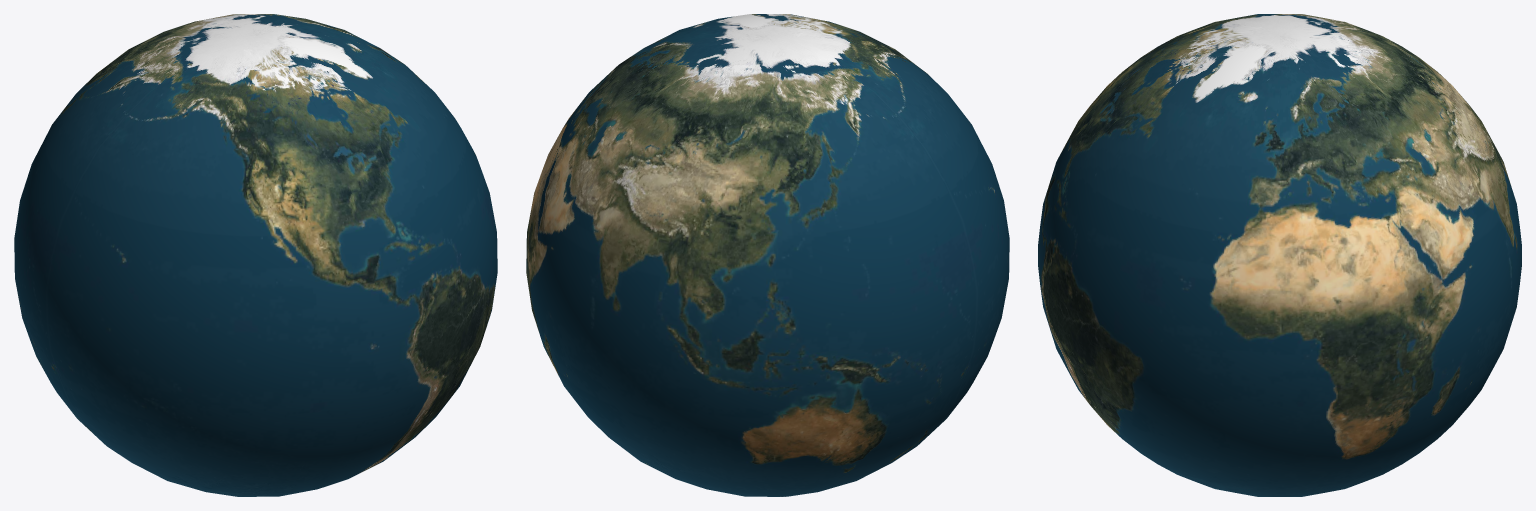
The model's file is diQiu.FBX.
The picture shows the model from 3 angles, left to right: view 1: azimuth 30°, elevation 25°; view 2: azimuth 150°, elevation 25°; view 3: azimuth 270°, elevation 25°; orthographic projection.
Visible parts, largest first — view 1: GeoSphere001; view 2: GeoSphere001; view 3: GeoSphere001.
Part boxes in pixels (x1,y1,x2,y2): GeoSphere001: (14, 14, 497, 496); GeoSphere001: (526, 14, 1009, 496); GeoSphere001: (1038, 14, 1521, 496).
Bounding box in the file's own units: 1.99 × 2 × 1.99.
Materials: 1 (1 with a texture image).
